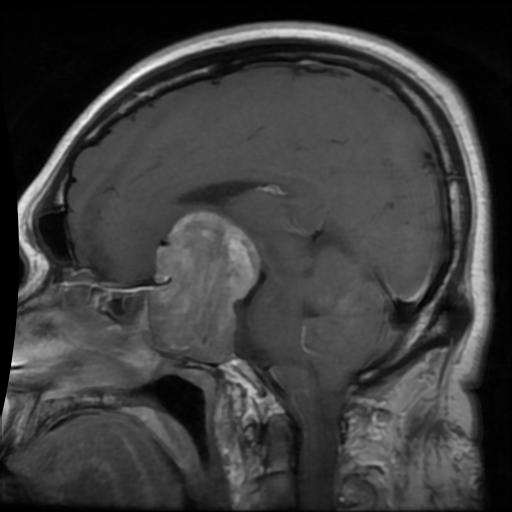Pituirity_tumour: (152, 215, 258, 361)
